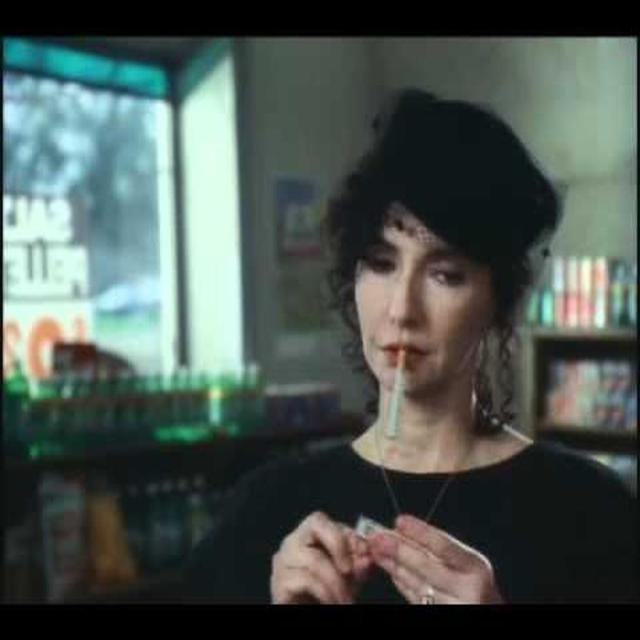smoking: (345, 101, 513, 462)
